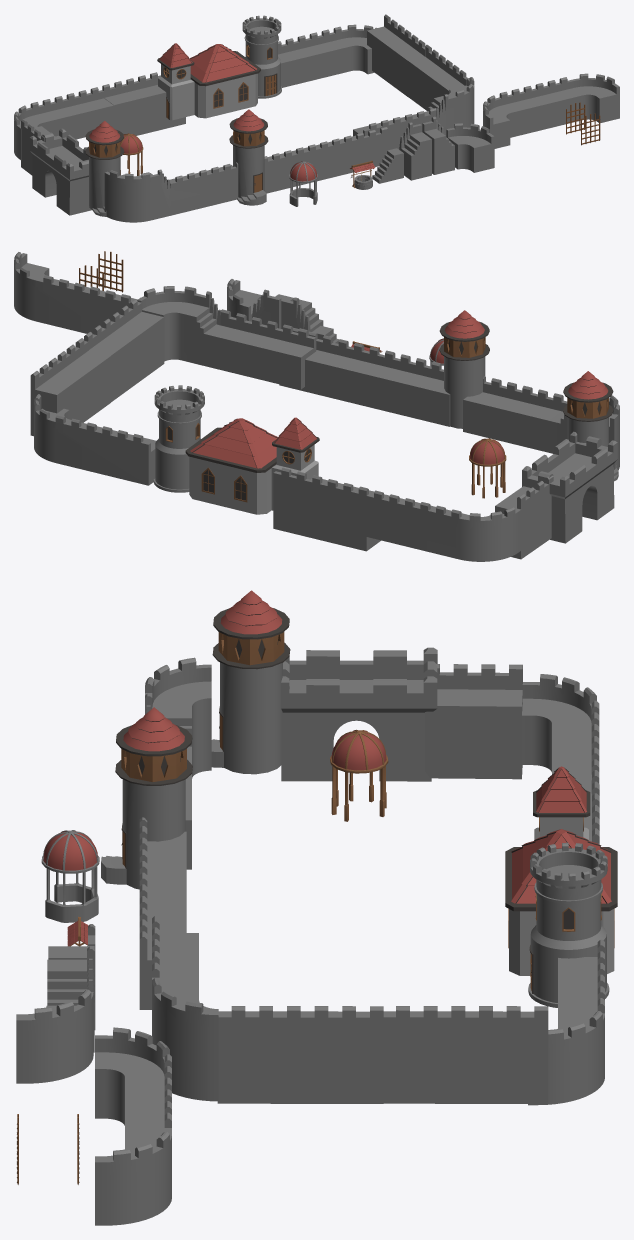
3 views of the same model, one above another, from view 1: azimuth 30°, elevation 25°; view 2: azimuth 150°, elevation 25°; view 3: azimuth 270°, elevation 25° (orthographic). The views are drawn at different scales.
Visible parts, largest first — view 1: Chapel, Wall6, SteppedWall1, Wall5-1, CastleGate, Wall5, Wall3.002, Tower2, Wall3.001, SteppedWall2, Wall1.001, Tower1 (+13 smaller); view 2: SteppedWall2, Chapel, Wall5, CastleGate, SteppedWall1, Wall5-1, Wall3.002, Wall6, Wall3.001, Wall3, Wall1, Tower1 (+9 smaller); view 3: CastleGate, Wall3.001, Wall3, Wall6, Tower2.001, Wall4, Tower2, Tower1, SteppedWall2, Chapel, Wall5-1, Wall5 (+8 smaller).
Part boxes in pixels (x1,y1,x2,y2): Chapel: (157,43,260,120); Wall6: (483,73,619,148); SteppedWall1: (104,162,238,222); Wall5-1: (278,24,376,87); CastleGate: (29,128,91,215); Wall5: (14,87,114,159); Wall3.002: (102,72,185,135); Tower2: (229,109,268,205); Wall3.001: (367,14,425,96); SteppedWall2: (353,77,474,150); Wall1.001: (304,127,387,181); Tower1: (242,15,281,98); SteppedWall2: (137,286,316,389); Chapel: (185,417,319,514); Wall5: (366,490,521,561); CastleGate: (522,431,617,543); SteppedWall1: (463,376,619,470); Wall5-1: (34,394,156,485); Wall3.002: (273,467,380,551); Wall6: (14,252,140,333); Wall3.001: (30,338,110,436); Wall3: (84,299,164,402); Wall1: (357,347,450,426); Tower1: (153,385,204,492); CastleGate: (281,647,437,781); Wall3.001: (383,1006,548,1103); Wall3: (217,1006,383,1103); Wall6: (95,1027,171,1225); Tower2.001: (211,590,290,774); Wall4: (425,664,522,779); Tower2: (101,707,192,889); Tower1: (528,842,609,1007); SteppedWall2: (152,915,218,1101); Chapel: (505,766,617,975); Wall5-1: (528,939,604,1105); Wall5: (522,674,599,793).
Bounding box in the file's own units: 5927 × 1083 × 3055.
